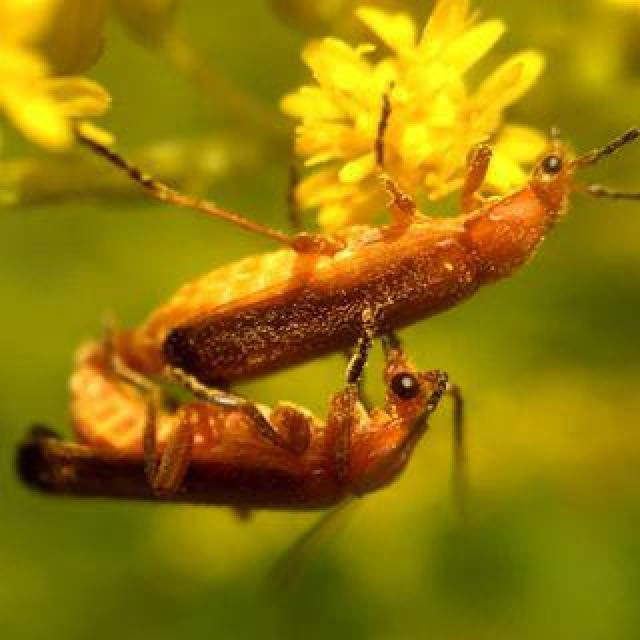BlisterBeetle-Adult-: (65, 82, 624, 392), (9, 331, 515, 531)
